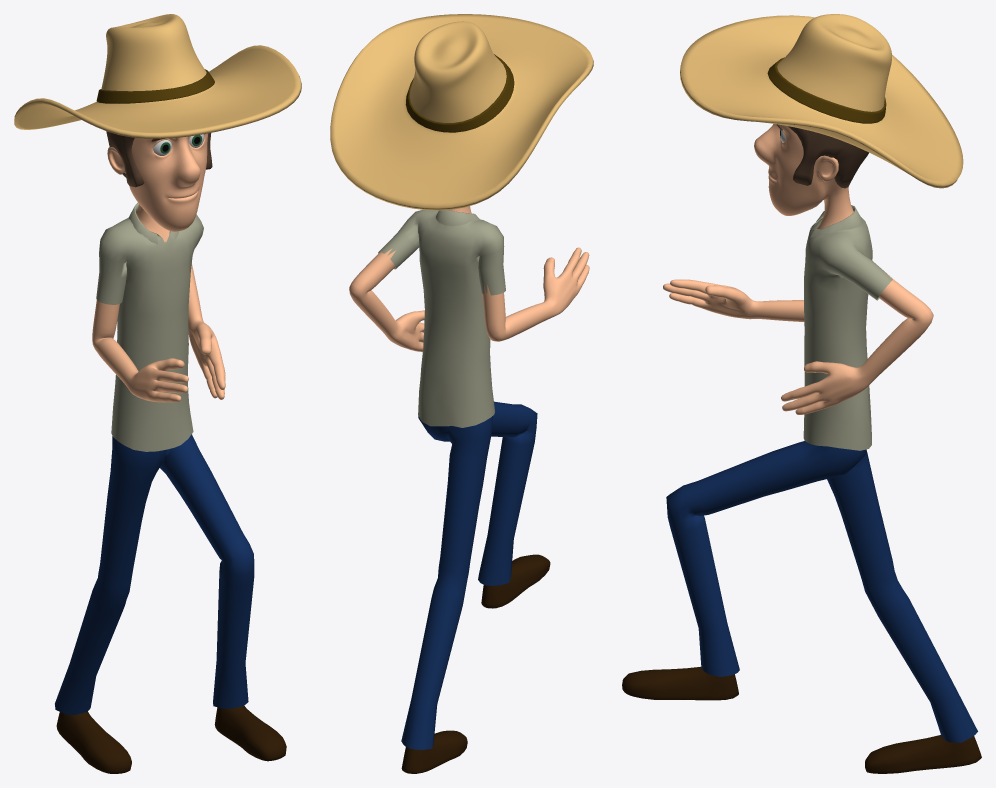
Rendered from GuyRun5.obj.
The picture shows the model from 3 angles, left to right: view 1: azimuth 30°, elevation 25°; view 2: azimuth 150°, elevation 25°; view 3: azimuth 270°, elevation 25°; orthographic projection. The views are drawn at different scales.
Size of the model in its own units: 2.18 by 7.15 by 3.08.
